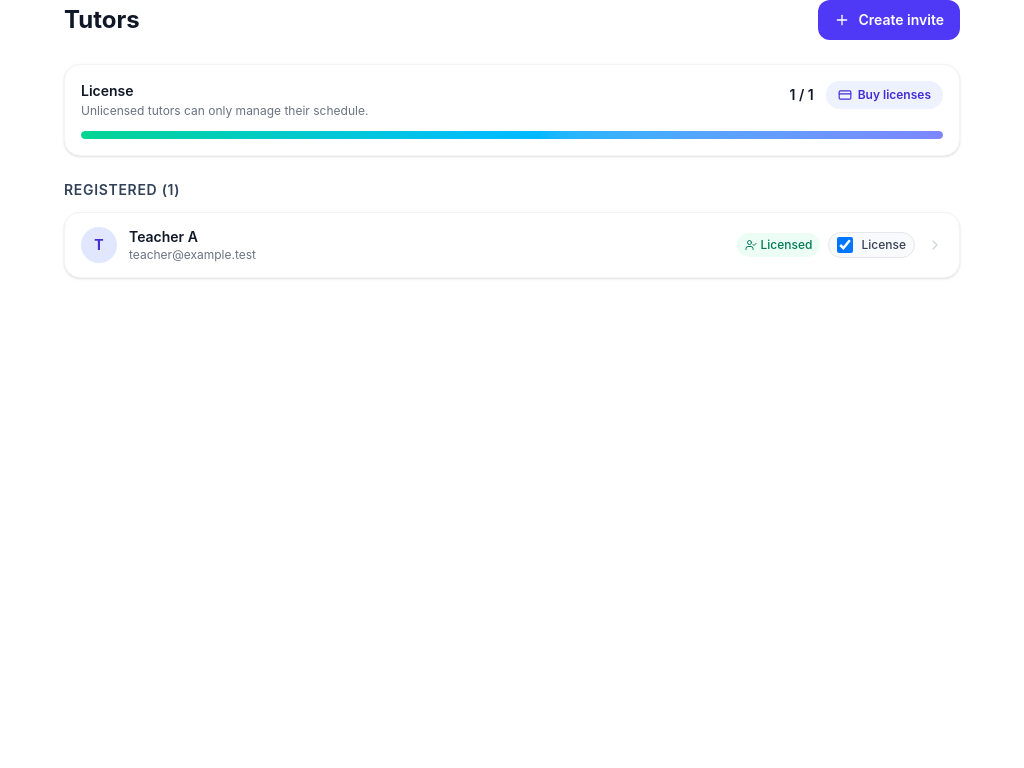
school administrator teacher-pay details › does not configure an unset school tariff when saving an unrelated teacher field
The image size is (1024, 768).
Click the button "Teacher A".
click(99, 245)  # box [64,212,960,278]
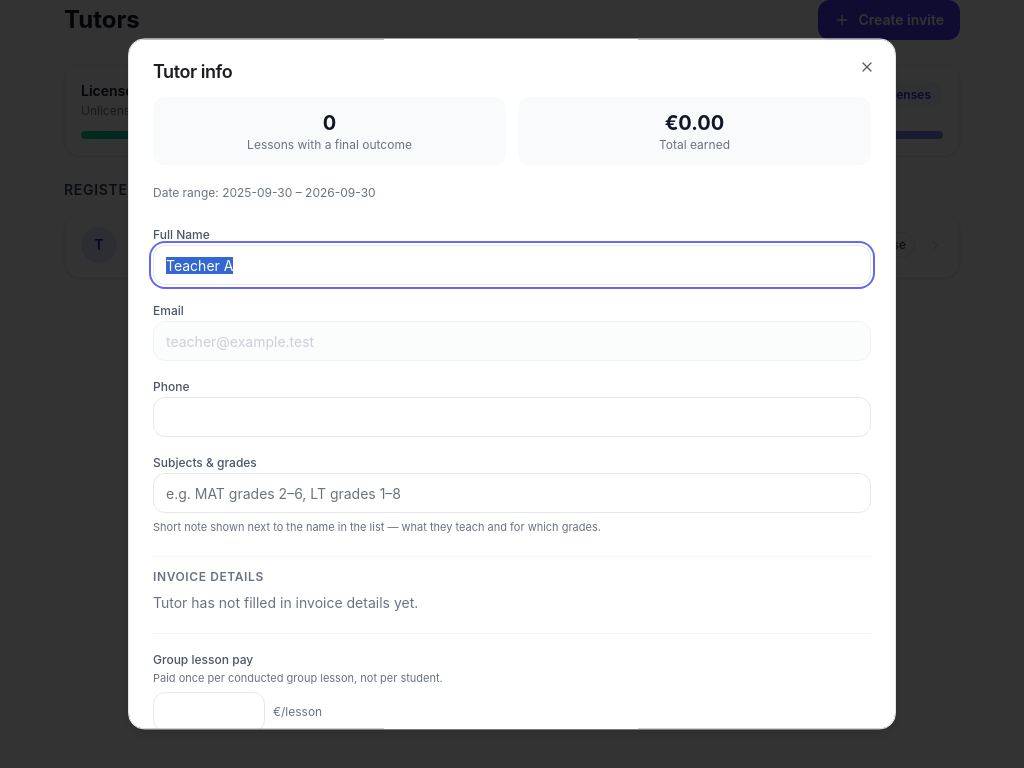
Expected: the number field is empty, [153,692,265,730]
Replace the text in the field showing "Teacher A" below "Full Name" with "Teacher Revised" at (512, 265), box [153,245,871,285]
(page scrolled)
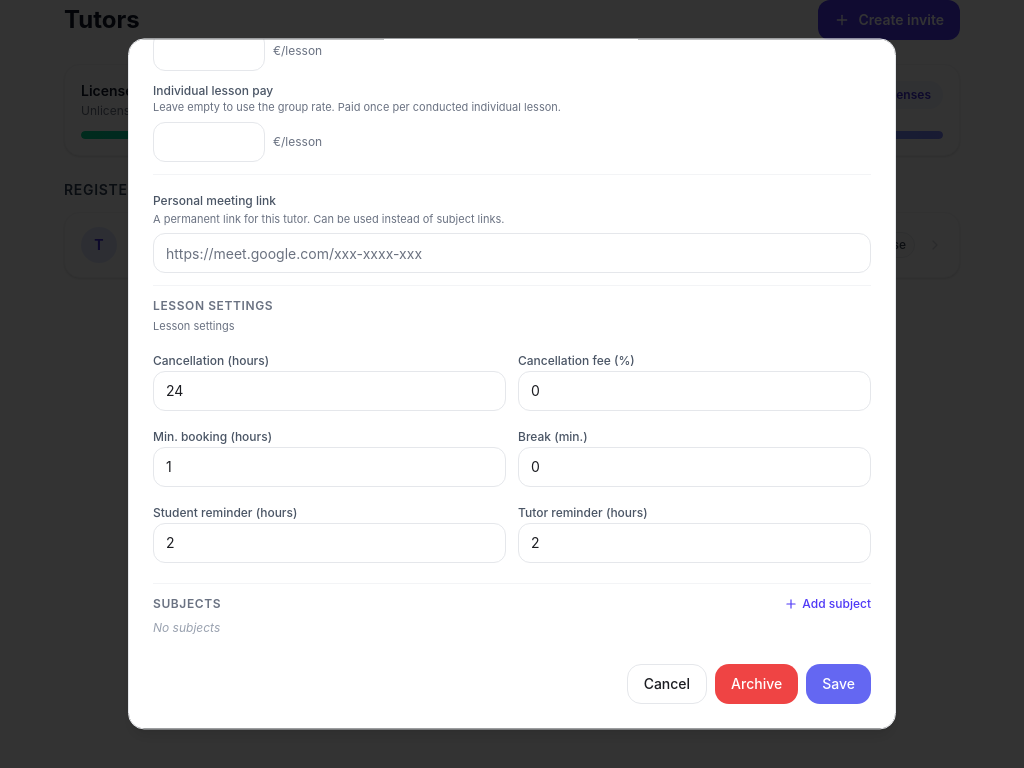
Click the button "Save".
click(839, 684)  # box [806,664,871,704]
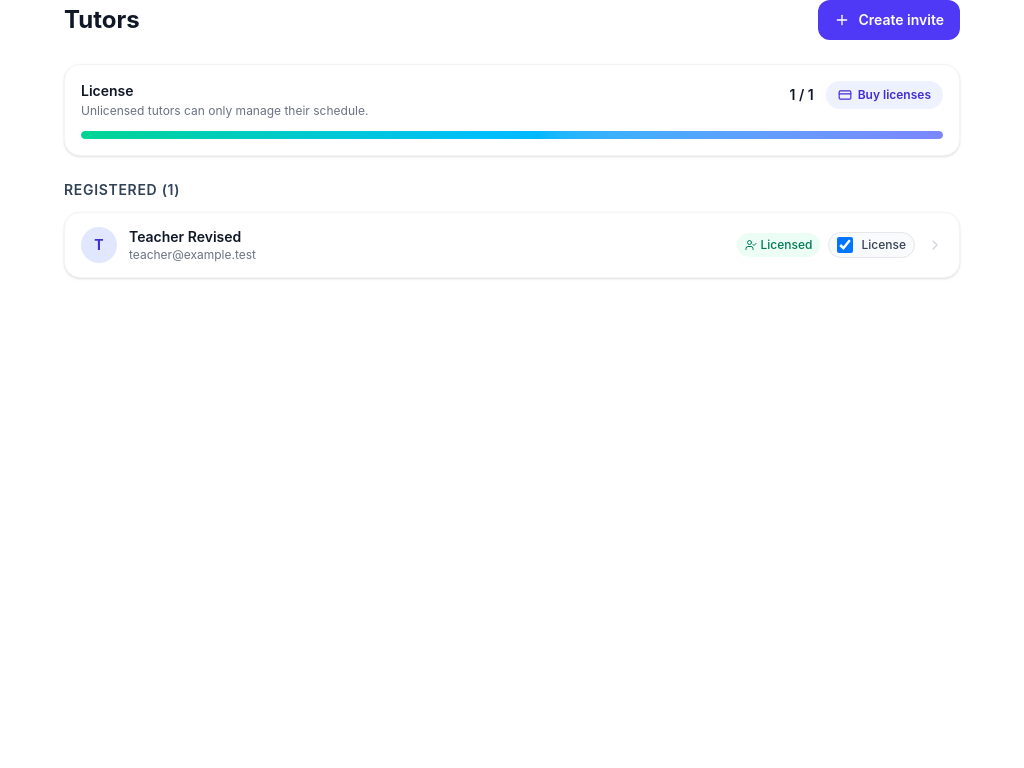
Expected: the dialog is gone
